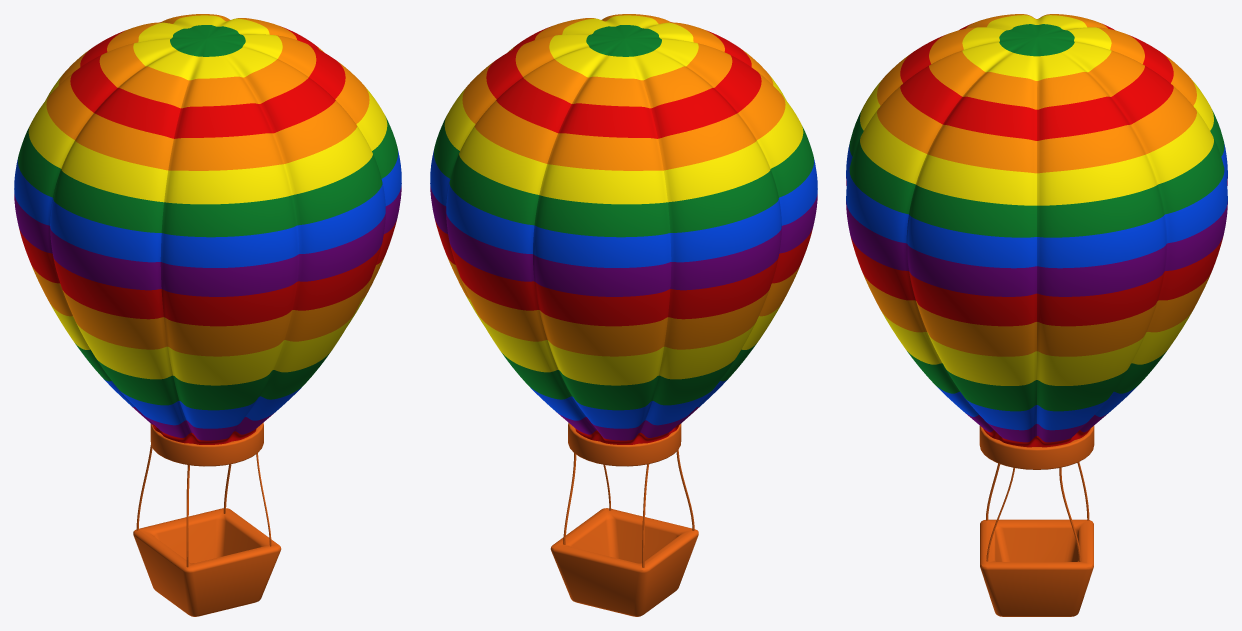
The model's file is hot-air-ballon.glb.
3 views of the same model, side by side, from view 1: azimuth 30°, elevation 25°; view 2: azimuth 150°, elevation 25°; view 3: azimuth 270°, elevation 25° (orthographic).
Parts seen in each view (by area): view 1: Sphere, Cube, Circle; view 2: Sphere, Cube, Circle; view 3: Sphere, Cube, Circle.
Boxes of the visible parts, x1,y1,x2,y2 form: Sphere: (14, 14, 401, 444); Cube: (133, 508, 281, 616); Circle: (150, 422, 263, 466); Sphere: (430, 14, 817, 444); Cube: (550, 508, 698, 616); Circle: (568, 422, 681, 466); Sphere: (846, 14, 1227, 447); Cube: (980, 519, 1093, 616); Circle: (979, 426, 1094, 469).
Size of the model in its own units: 2.98 by 4.86 by 2.98.
